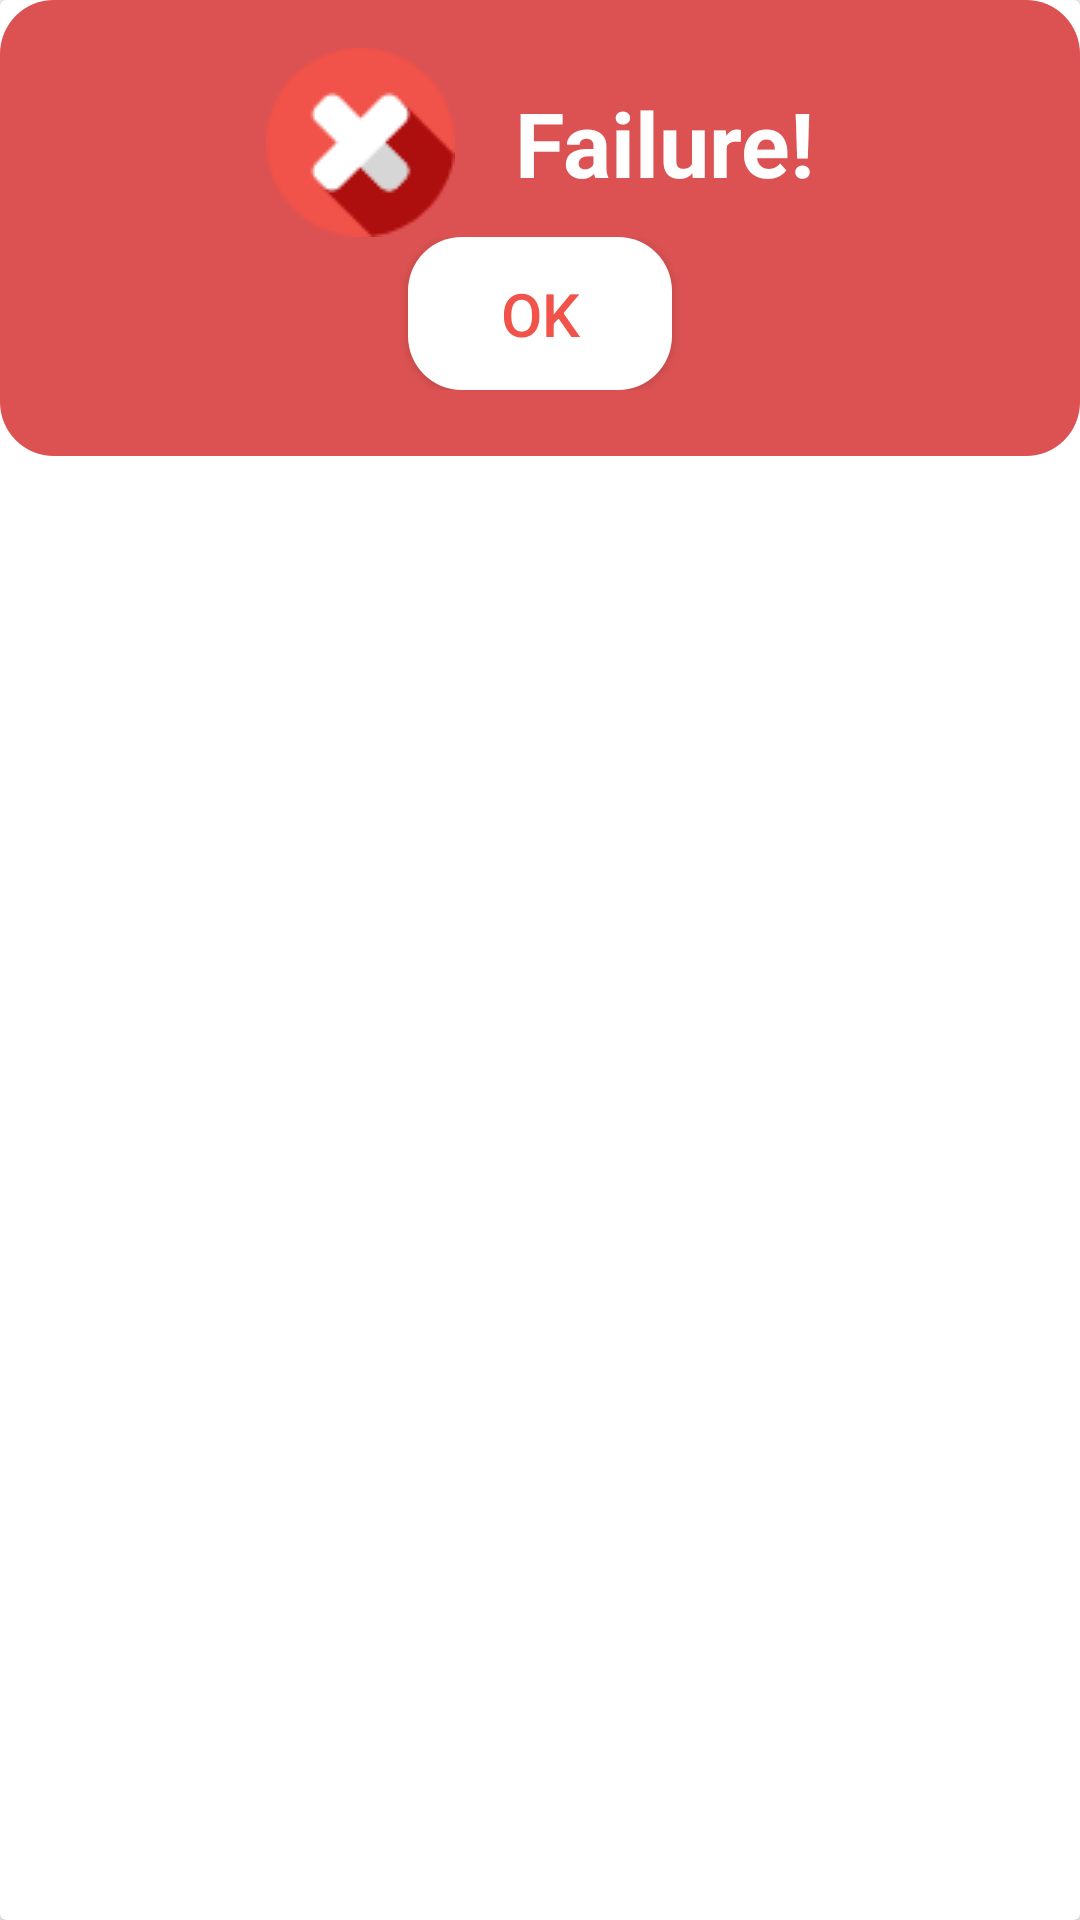

Named icons in this screenshot (1080px×1920px) and their bounding boxes, box=[x1, y1, x2, y2]:
fail dialog: box=[311, 92, 455, 237]
